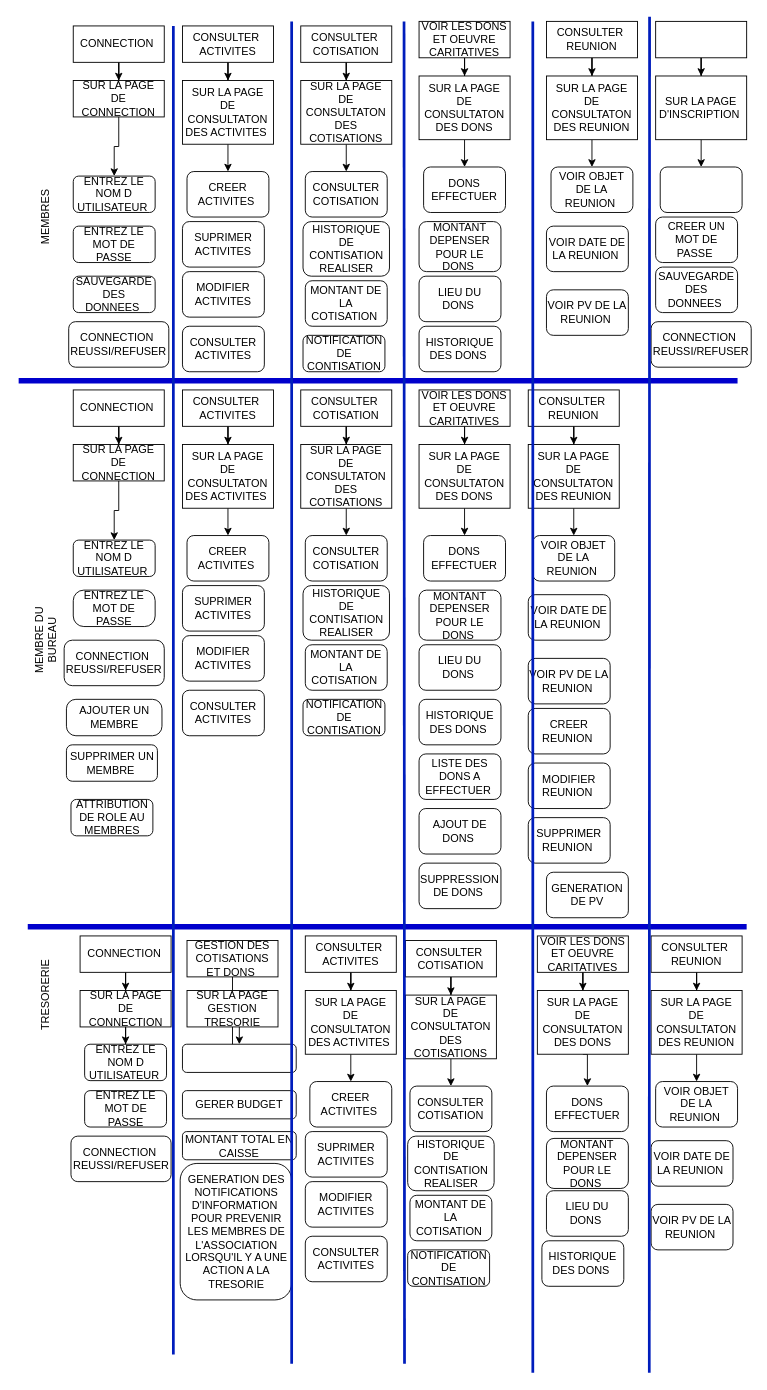
The diagram is 767 pixels wide and 1390 high, and some of its shapes have lost their labels. Each missing label, with the centre of its shape:
CREER UN NOM UTLISATEUR: (x=700, y=189)
ENREGSITREMENT DES DONS: (x=239, y=1057)
INSCRIPTION: (x=701, y=39)
